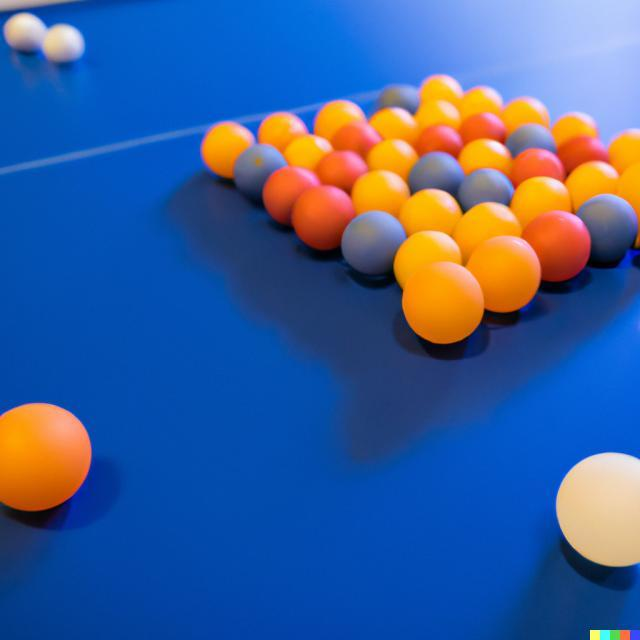orange: (0, 400, 94, 512), (402, 262, 485, 344), (468, 235, 541, 312), (202, 123, 256, 177)
white: (556, 452, 640, 568), (42, 24, 87, 66), (3, 12, 47, 54)
